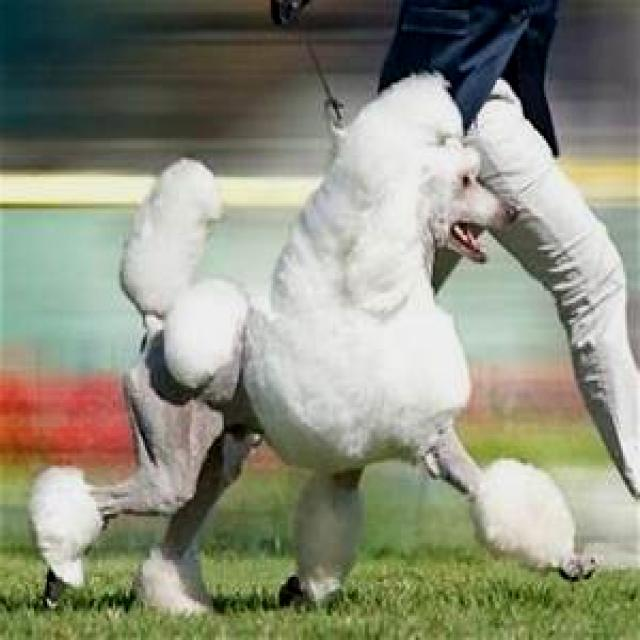FIL: (26, 69, 591, 614)
